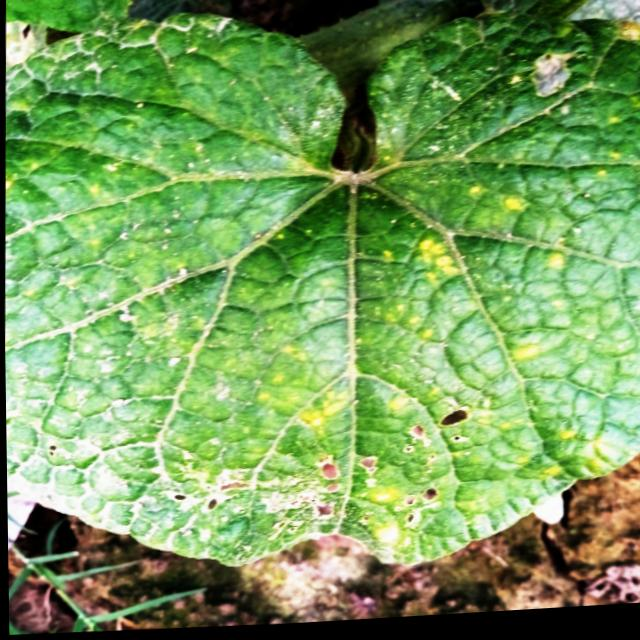Downy-Mildew: (4, 14, 640, 574)
